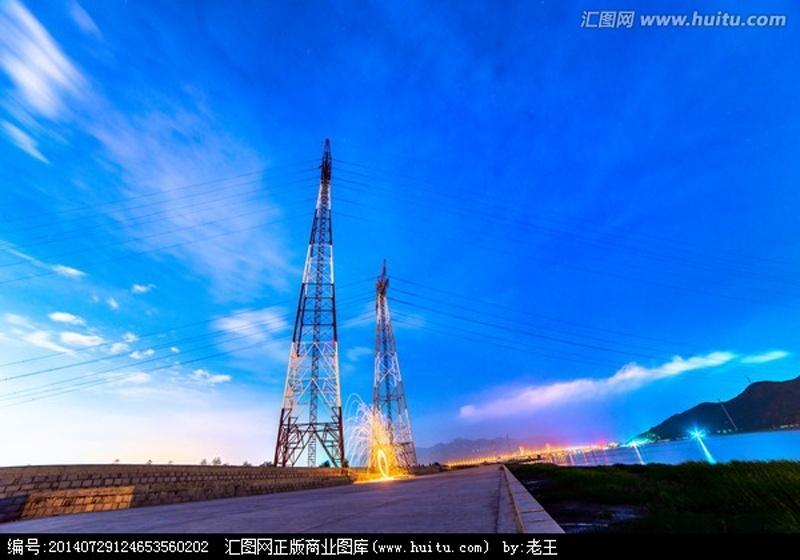power_tower: (274, 130, 352, 468), (369, 258, 420, 474)
